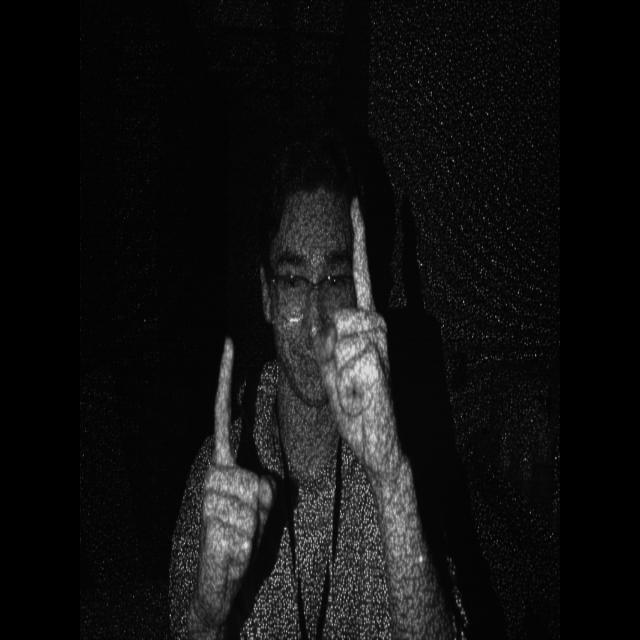STARS: (316, 187, 407, 476), (188, 315, 278, 595)
